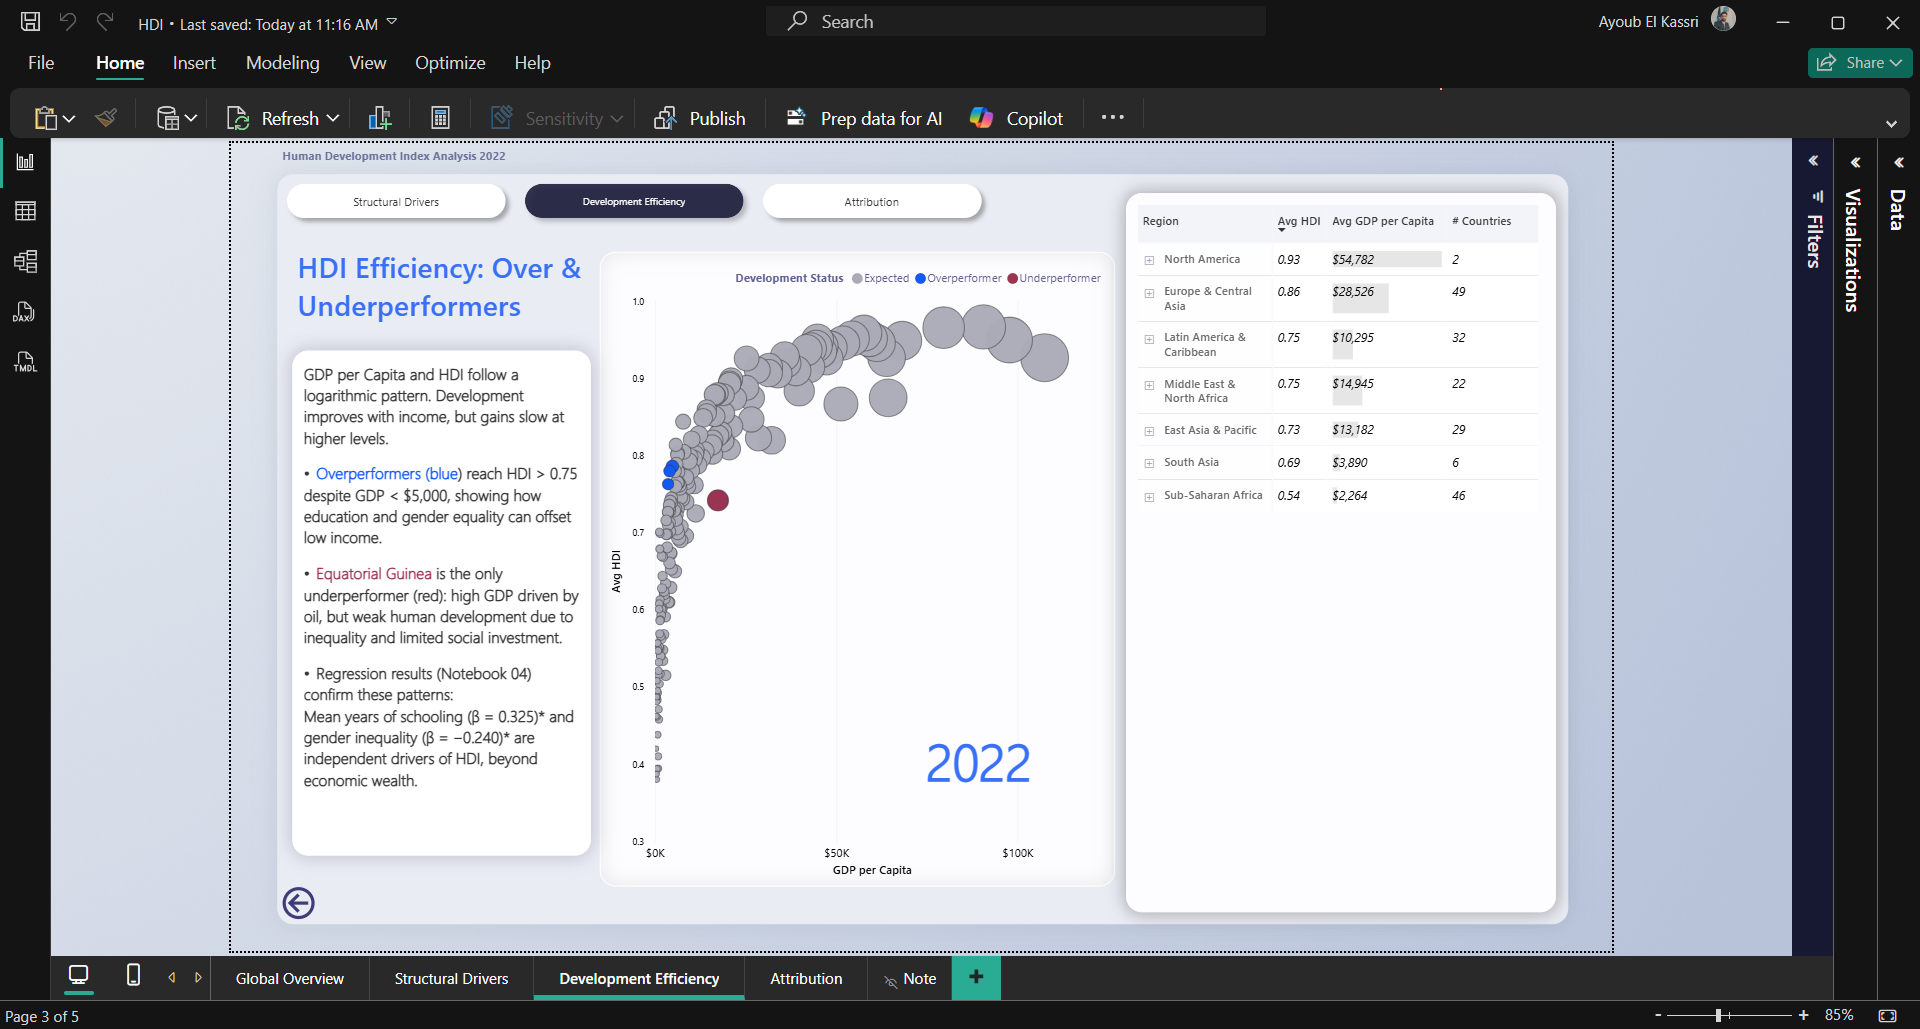

The dashboard page shown, as its layout file describes it:
{"tool":"powerbi","page":{"name":"Development Efficiency","canvas":[1295,758],"ordinal":2},"visuals":[{"type":"shape","box":[43.5,29.4,1210.5,703.5],"z":0},{"type":"textbox","box":[43.5,0.2,275.4,29.3],"z":1000},{"type":"scatterChart","title":"Development Efficiency: Overperformers & Underperformers","fields":{"Category":["hdi v_development_efficiency.country"],"X":["Avg(hdi v_development_efficiency.gdp_per_capita)"],"Size":["Avg(hdi v_development_efficiency.gdp_per_capita)"],"Y":["Avg(hdi v_development_efficiency.hdi)"],"Series":["hdi v_development_efficiency.development_status"]},"box":[345.9,102.3,483.5,595.3],"z":3000},{"type":"textbox","box":[647,541.2,150.6,78.8],"z":4000},{"type":"textbox","box":[57.4,79.7,288.3,126.6],"z":5000},{"type":"pivotTable","fields":{"Values":["Avg(hdi v_development_efficiency.hdi)","Avg(hdi v_development_efficiency.gdp_per_capita)","Count(hdi v_development_efficiency.country)"],"Rows":["hdi v_development_efficiency.region","hdi v_development_efficiency.country"]},"box":[838.8,47.1,403.5,674.1],"z":6000},{"type":"textbox","box":[57.4,194.5,280.1,473.5],"z":7000},{"type":"pageNavigator","box":[43.4,29.3,669.2,50.4],"z":8000},{"type":"actionButton","box":[43.6,692.4,42.4,40],"z":8001}]}

Visuals, with their boxes on the page's 1295x758 design canvas (x1, y1, x2, y2). These are canvas units, not pixel positions in the 1920x1029 screenshot, which may show the page scaled, cropped or inside an application window:
shape: crop(44, 29, 1254, 733)
textbox: crop(44, 0, 319, 30)
"Development Efficiency: Overperformers & Underperformers" scatterChart: crop(346, 102, 829, 698)
textbox: crop(647, 541, 798, 620)
textbox: crop(57, 80, 346, 206)
pivotTable - Avg(hdi v_development_efficiency.hdi) x Avg(hdi v_development_efficiency.gdp_per_capita): crop(839, 47, 1242, 721)
textbox: crop(57, 194, 338, 668)
pageNavigator: crop(43, 29, 713, 80)
actionButton: crop(44, 692, 86, 732)
